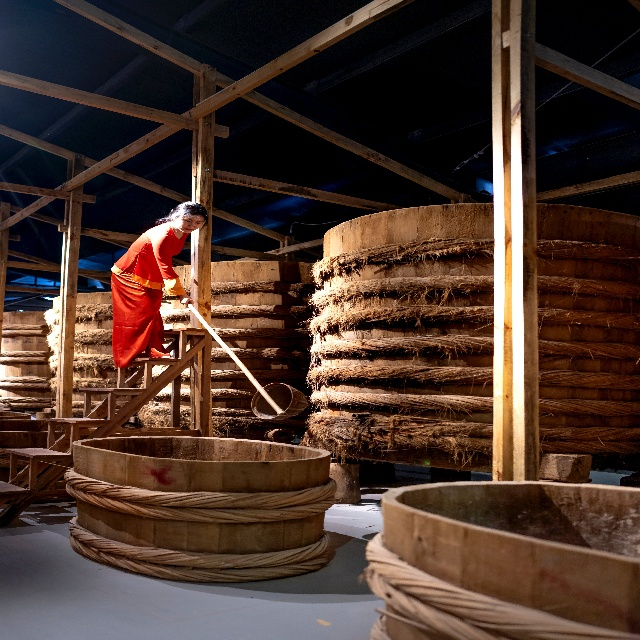Sin_guantes: (180, 293, 194, 308)
